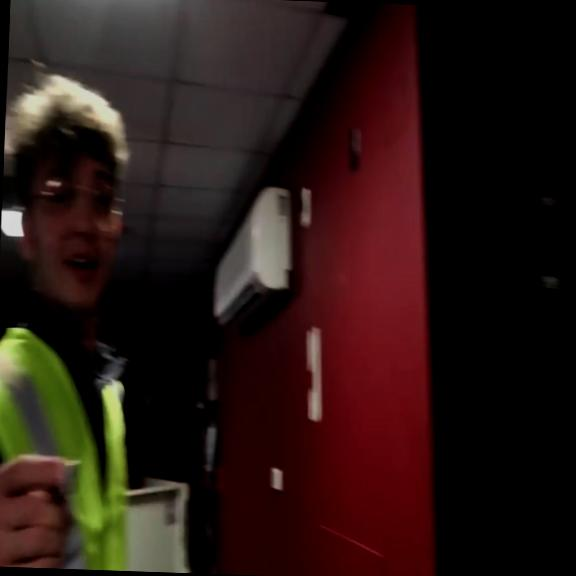safety_vest: (0, 324, 137, 570)
